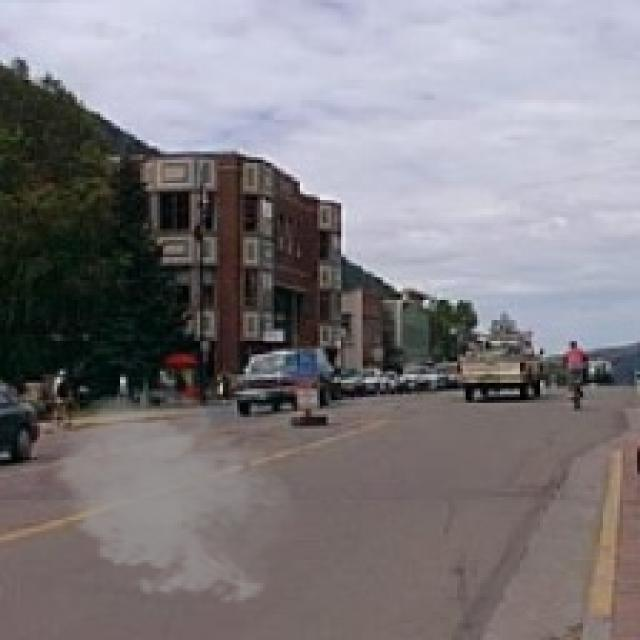smoke: (49, 372, 300, 608)
